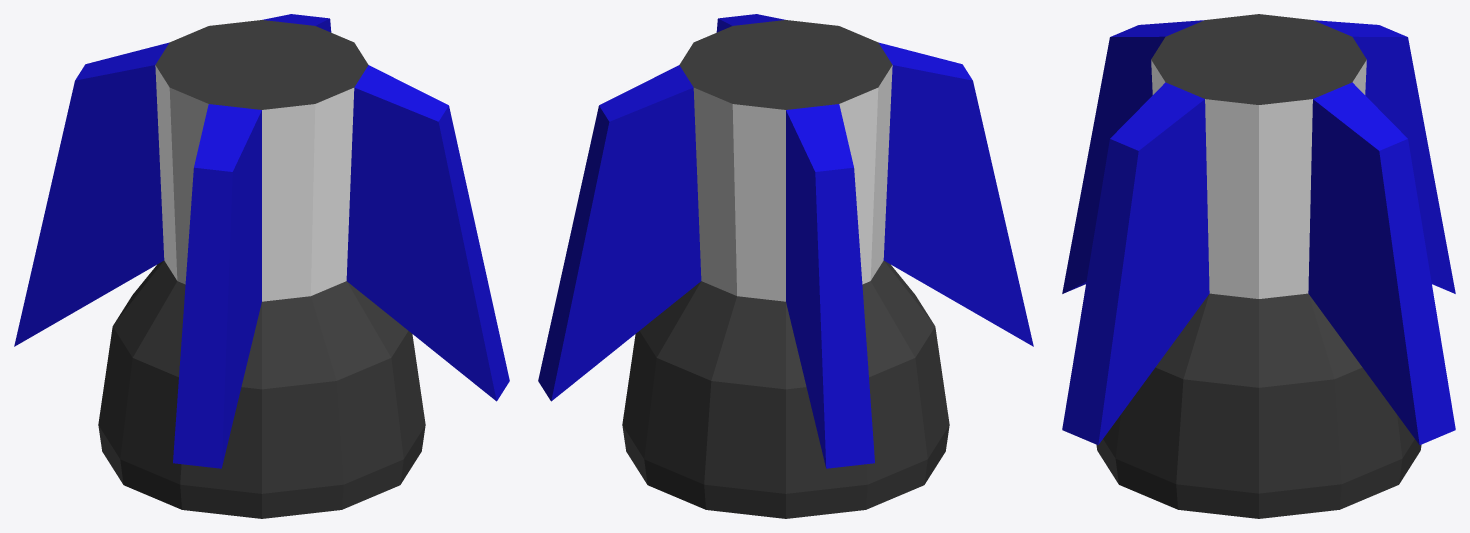
File: Thruster00.gltf
3 renders of one model, left to right at view 1: azimuth 30°, elevation 25°; view 2: azimuth 150°, elevation 25°; view 3: azimuth 270°, elevation 25°, orthographic.
Parts seen in each view (by area): view 1: Thruster00; view 2: Thruster00; view 3: Thruster00.
Boxes of the visible parts, x1=… form: Thruster00: x1=14, y1=14, x2=509, y2=518; Thruster00: x1=538, y1=14, x2=1033, y2=518; Thruster00: x1=1062, y1=14, x2=1455, y2=518.
Size of the model in its own units: 0.9125 by 1 by 0.9125.
